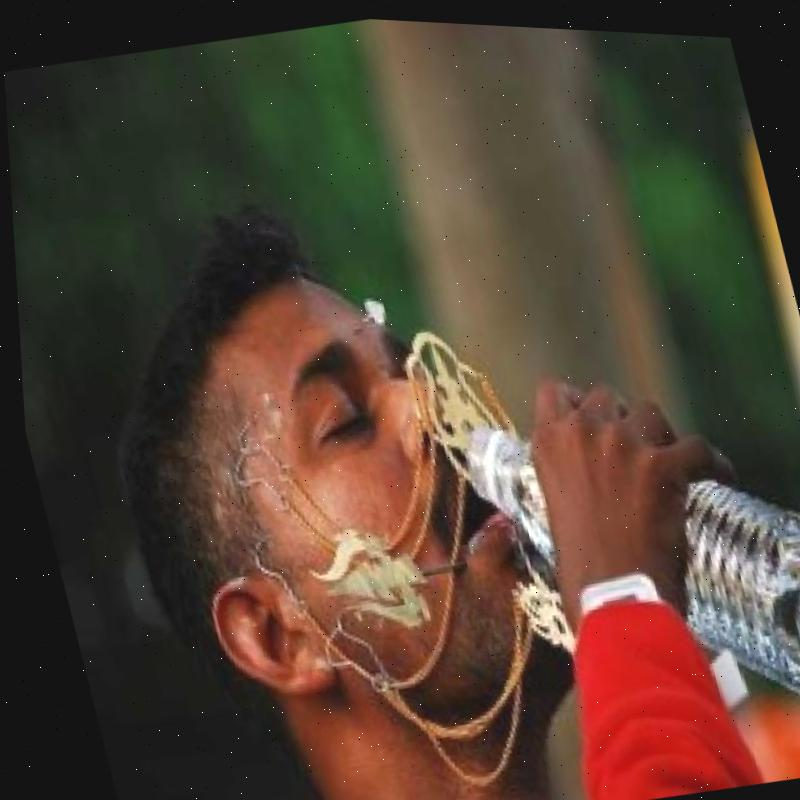botella: (442, 361, 800, 749)
